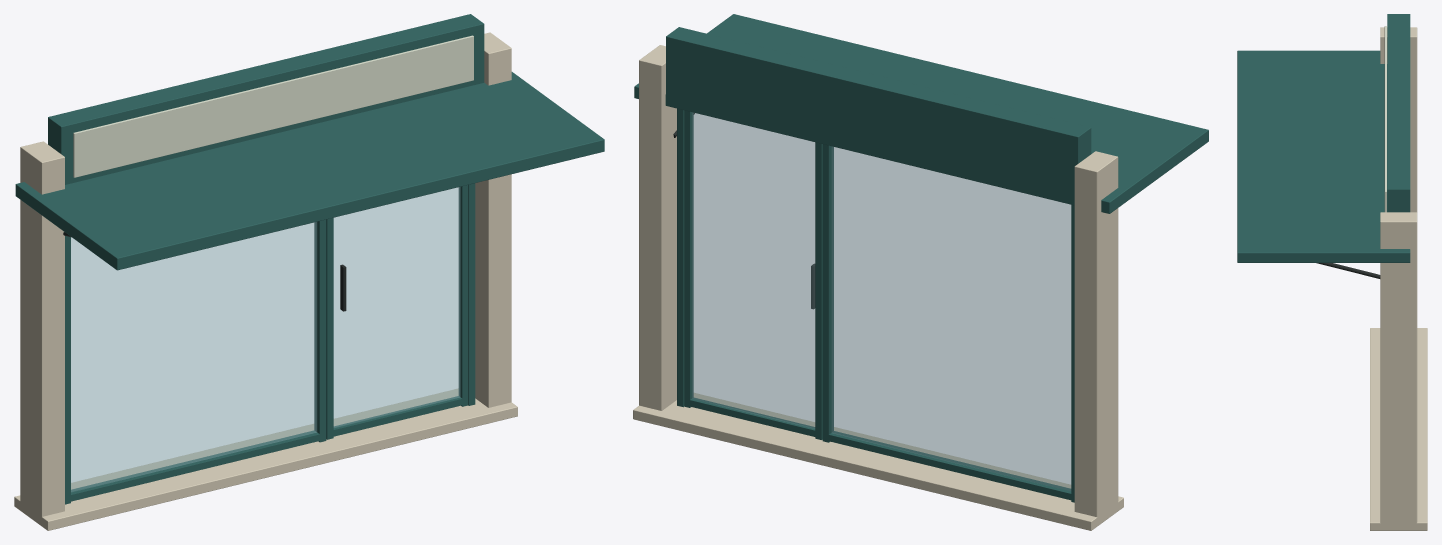
The model's file is hdb-neighbourhood-shopfront.glb.
The picture shows the model from 3 angles, left to right: view 1: azimuth 30°, elevation 25°; view 2: azimuth 150°, elevation 25°; view 3: azimuth 270°, elevation 25°; orthographic projection. The views are drawn at different scales.
Visible parts, largest first — view 1: DISPLAY_Glass, CANOPY, DOOR_Glass, SIGN_ReplaceableFace, PIER_-1.9, THRESHOLD, SIGN_Backboard, PIER_1.9, FRAME_Rail_0.12, FRAME_Jamb_0.45, DOOR_Stile_1.67, FRAME_Jamb_1.72 (+3 smaller); view 2: DISPLAY_Glass, DOOR_Glass, SIGN_Backboard, CANOPY, PIER_-1.9, THRESHOLD, PIER_1.9, FRAME_Jamb_0.45, FRAME_Rail_0.12, DOOR_Stile_1.67, FRAME_Jamb_1.72, DOOR_Stile_0.52 (+2 smaller); view 3: CANOPY, PIER_1.9, SIGN_Backboard, THRESHOLD, PIER_-1.9, SIGN_ReplaceableFace, CANOPY_Bracket_1.8.
Boxes of the visible parts, x1=… form: DISPLAY_Glass: x1=71, y1=222, x2=316, y2=491; CANOPY: x1=15, y1=72, x2=604, y2=270; DOOR_Glass: x1=333, y1=187, x2=460, y2=427; SIGN_ReplaceableFace: x1=73, y1=35, x2=473, y2=177; PIER_-1.9: x1=20, y1=141, x2=64, y2=516; THRESHOLD: x1=14, y1=388, x2=517, y2=530; SIGN_Backboard: x1=48, y1=14, x2=484, y2=184; PIER_1.9: x1=475, y1=32, x2=511, y2=407; FRAME_Rail_0.12: x1=71, y1=430, x2=319, y2=501; FRAME_Jamb_0.45: x1=314, y1=219, x2=326, y2=442; DOOR_Stile_1.67: x1=458, y1=185, x2=468, y2=406; FRAME_Jamb_1.72: x1=468, y1=183, x2=475, y2=405; DISPLAY_Glass: x1=831, y1=146, x2=1071, y2=490; DOOR_Glass: x1=692, y1=112, x2=815, y2=428; SIGN_Backboard: x1=666, y1=27, x2=1091, y2=194; CANOPY: x1=634, y1=14, x2=1208, y2=213; PIER_-1.9: x1=1074, y1=151, x2=1118, y2=517; THRESHOLD: x1=633, y1=393, x2=1123, y2=530; PIER_1.9: x1=639, y1=45, x2=676, y2=410; FRAME_Jamb_0.45: x1=822, y1=144, x2=833, y2=442; FRAME_Rail_0.12: x1=828, y1=431, x2=1071, y2=500; DOOR_Stile_1.67: x1=684, y1=110, x2=693, y2=407; FRAME_Jamb_1.72: x1=677, y1=108, x2=684, y2=407; DOOR_Stile_0.52: x1=815, y1=142, x2=822, y2=439; CANOPY: x1=1237, y1=50, x2=1410, y2=262; PIER_1.9: x1=1380, y1=212, x2=1417, y2=526; SIGN_Backboard: x1=1387, y1=14, x2=1410, y2=212; THRESHOLD: x1=1370, y1=328, x2=1427, y2=530; PIER_-1.9: x1=1380, y1=27, x2=1417, y2=212; SIGN_ReplaceableFace: x1=1384, y1=26, x2=1386, y2=212; CANOPY_Bracket_1.8: x1=1316, y1=263, x2=1380, y2=278.
Bounding box in the file's own units: 4.15 × 3.18 × 1.65.
